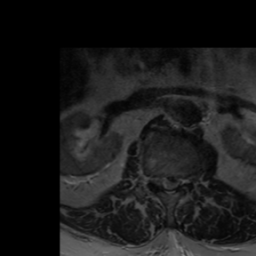CCS_stenosis: (166, 170, 172, 201)
LFS_stenosis: (180, 169, 188, 193)
LLS_stenosis: (172, 170, 180, 195)
RFS_normal: (151, 166, 159, 189)
RLS_stenosis: (159, 168, 166, 196)
